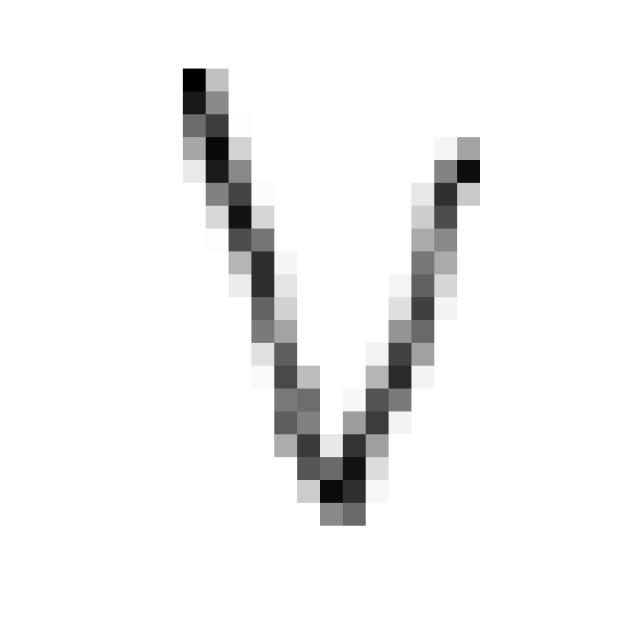7 -seven-: (160, 43, 494, 540)
